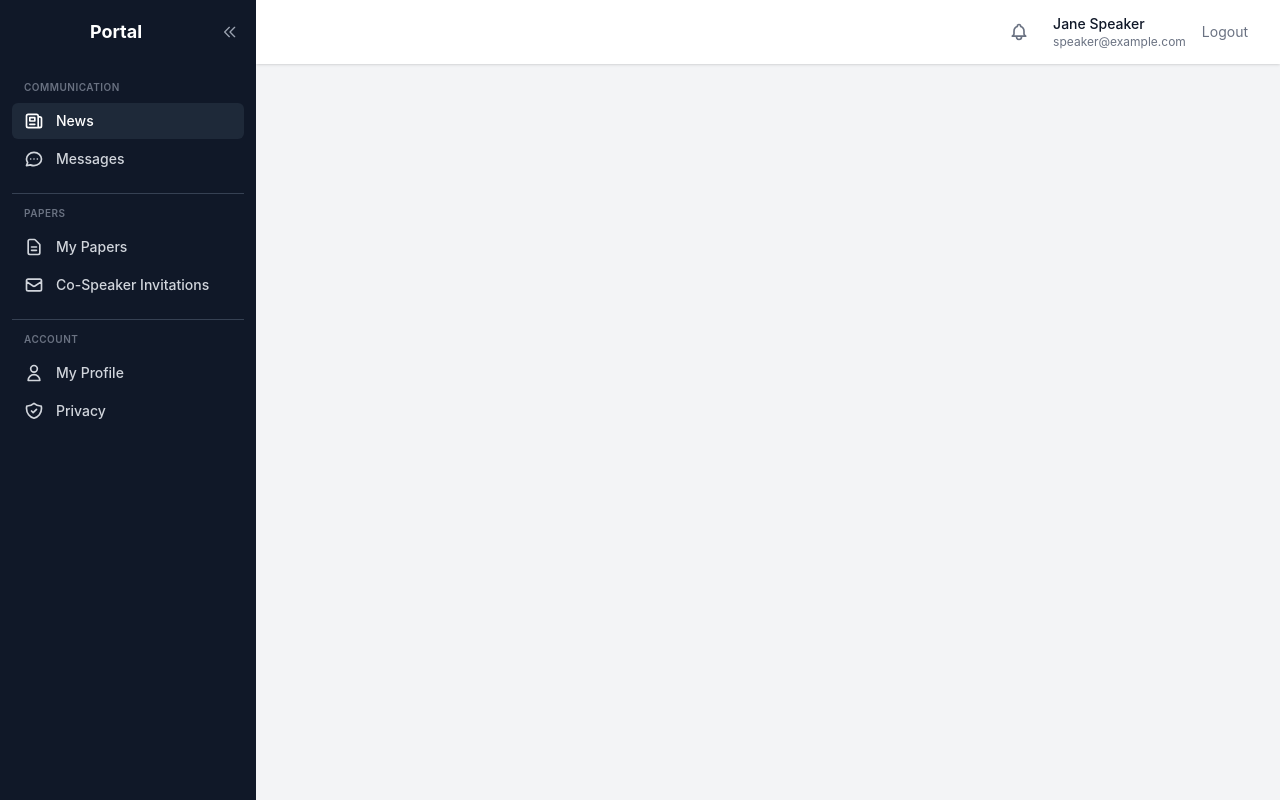
Test: PortalLayout — notification bell dropdown › shows "No new notifications" when unread count is zero
Click the button named "Notifications". click: (1019, 32)
box: [1001,14,1037,50]
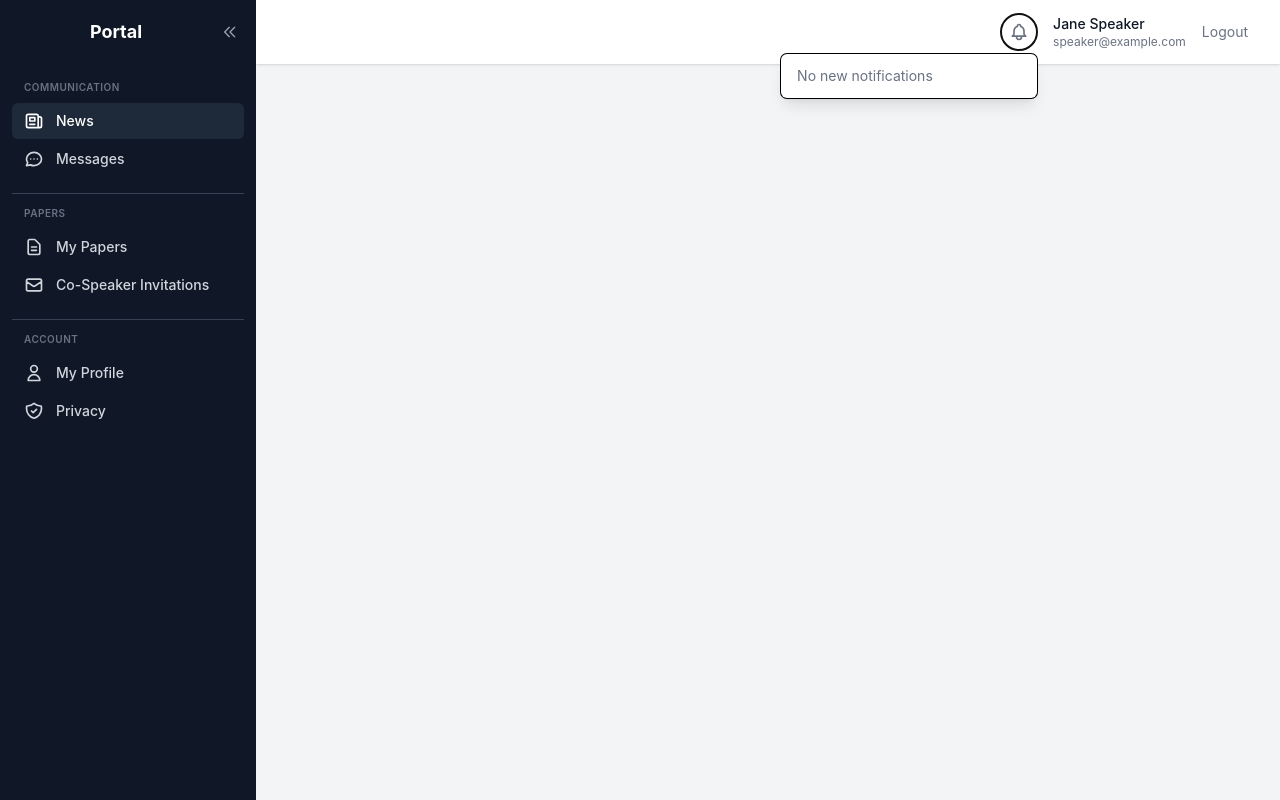
Now the menu item "No new notifications" is shown, box [797,67,933,84]
